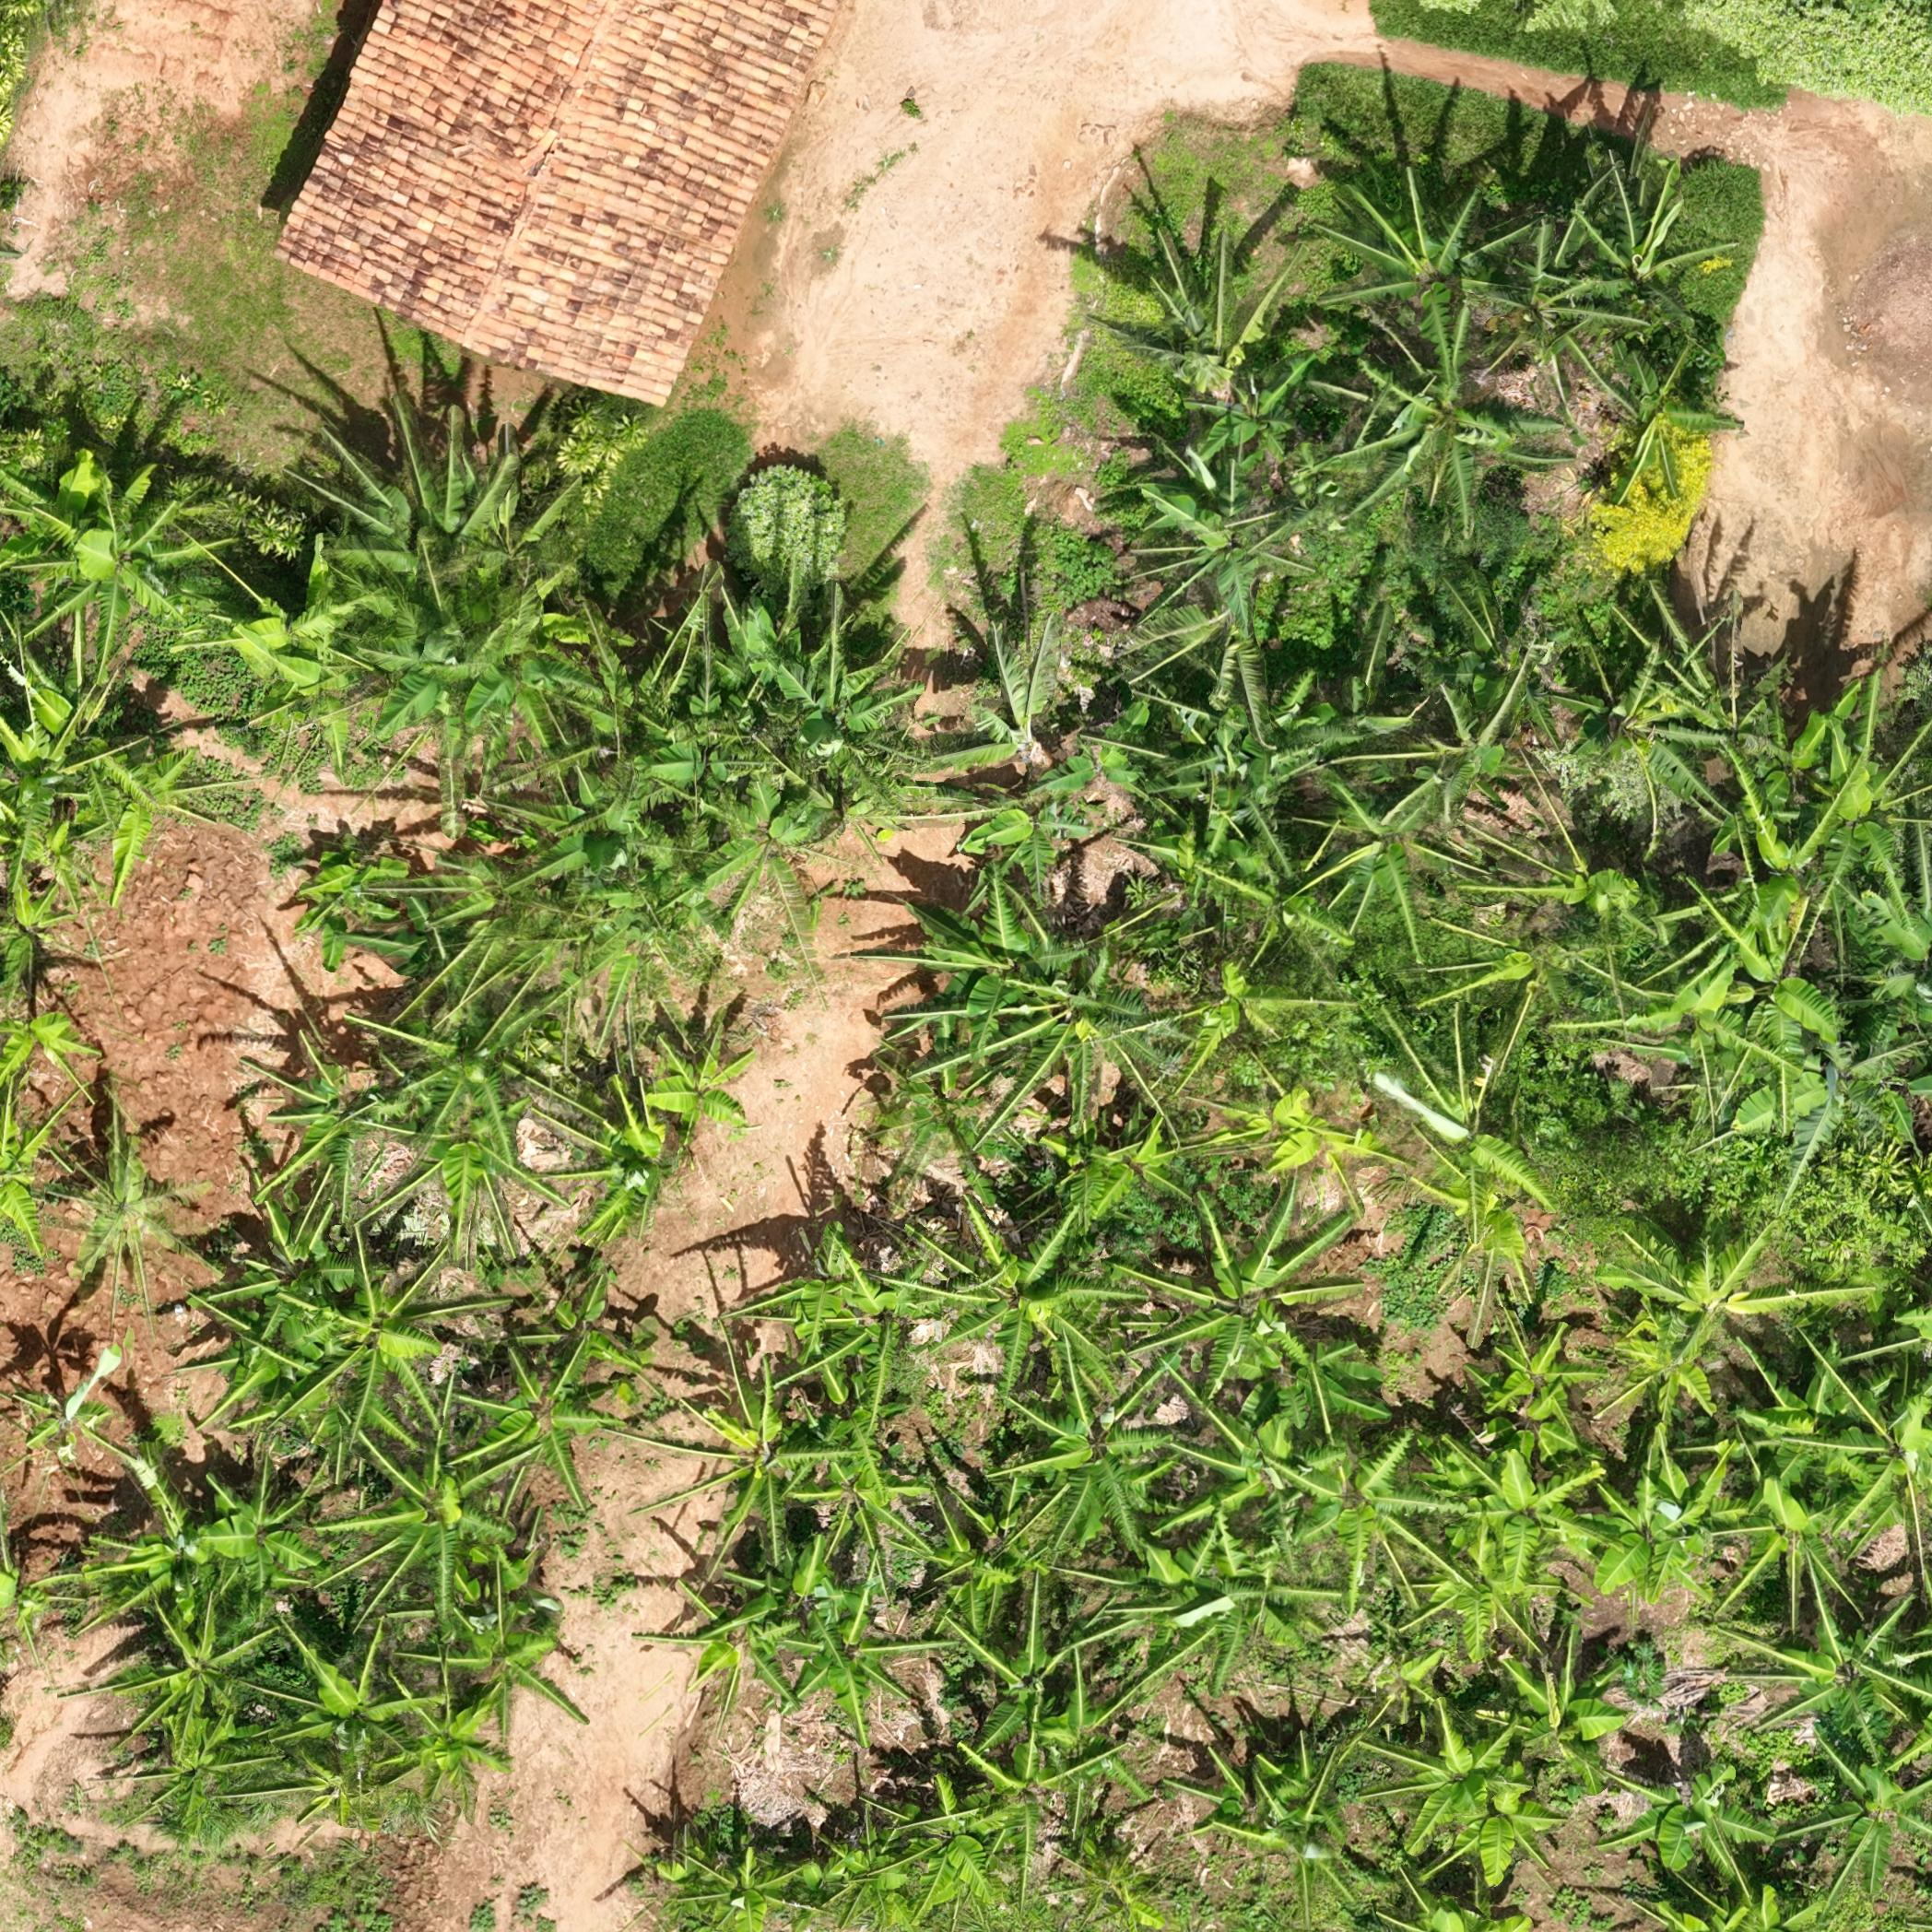Banana: (936, 1212, 1122, 1394), (1131, 1207, 1329, 1376), (318, 444, 499, 603), (203, 568, 366, 732), (1389, 1074, 1545, 1244), (464, 1345, 621, 1506), (1024, 1378, 1171, 1539), (672, 1378, 830, 1525), (1518, 800, 1660, 959), (1283, 1435, 1440, 1576), (1187, 1387, 1323, 1550), (1357, 200, 1499, 352), (1663, 623, 1783, 801), (888, 1040, 1026, 1196), (386, 996, 545, 1131), (1010, 947, 1150, 1095), (1706, 913, 1842, 1065), (1168, 943, 1311, 1083), (1431, 584, 1566, 732), (1569, 646, 1693, 807), (924, 881, 1051, 1037), (1311, 763, 1438, 915), (534, 764, 671, 906), (418, 837, 570, 962), (400, 1083, 547, 1210), (62, 508, 186, 658), (548, 632, 681, 770), (1775, 1617, 1914, 1746), (1403, 674, 1522, 823), (1460, 911, 1598, 1039), (379, 1442, 502, 1583), (451, 612, 584, 743), (1192, 1543, 1313, 1686), (1460, 1449, 1589, 1582), (667, 1582, 800, 1711), (1649, 1231, 1778, 1362), (1152, 502, 1293, 621), (1086, 1516, 1221, 1640), (952, 1617, 1076, 1750), (566, 1095, 681, 1237), (1392, 347, 1500, 497), (796, 1592, 911, 1732), (1583, 195, 1697, 336), (1217, 849, 1345, 975), (1476, 242, 1591, 380), (1166, 718, 1279, 855), (1060, 1118, 1196, 1231), (637, 1014, 766, 1132), (1614, 1300, 1734, 1424), (764, 649, 893, 763), (1752, 1364, 1865, 1493), (970, 1725, 1092, 1844), (200, 1479, 326, 1594), (1736, 1476, 1844, 1608), (285, 1054, 391, 1189), (287, 1649, 405, 1769), (644, 690, 761, 812), (71, 1154, 186, 1277), (959, 639, 1056, 784), (1727, 798, 1831, 931), (1599, 349, 1698, 488), (1235, 1796, 1361, 1905), (207, 1297, 322, 1415), (522, 1279, 646, 1389), (1382, 1707, 1491, 1831), (909, 1507, 1019, 1631), (763, 1221, 872, 1343), (1845, 1385, 1930, 1537), (589, 876, 704, 987), (1812, 1752, 1927, 1863), (1514, 1663, 1621, 1783), (124, 1500, 237, 1612), (14, 678, 133, 784), (88, 748, 193, 869), (734, 782, 826, 918), (1624, 1771, 1755, 1867), (1141, 280, 1251, 393), (4, 464, 117, 570), (1484, 1320, 1596, 1426), (1166, 1744, 1265, 1863), (826, 1247, 931, 1359), (741, 1536, 842, 1651), (326, 1279, 433, 1385), (455, 1612, 561, 1720), (980, 768, 1074, 890), (1348, 1633, 1451, 1744), (1205, 366, 1309, 474), (1596, 1486, 1700, 1589), (908, 1789, 1001, 1902), (948, 1488, 1049, 1589), (370, 621, 478, 715), (295, 842, 402, 936), (157, 1617, 251, 1723), (145, 1718, 237, 1822), (249, 1230, 345, 1329), (1049, 706, 1143, 805), (396, 1700, 495, 1794), (1251, 1737, 1348, 1831), (1040, 1702, 1139, 1794), (1739, 717, 1829, 817), (2, 1008, 94, 1106), (4, 725, 85, 833), (819, 1458, 909, 1555), (823, 1835, 911, 1923), (16, 1380, 113, 1456), (1461, 1783, 1548, 1861), (292, 1746, 368, 1831), (780, 1410, 860, 1490), (2, 1136, 44, 1265), (711, 1856, 786, 1928), (5, 892, 57, 978), (1056, 1849, 1118, 1909), (1104, 1890, 1166, 1930)
